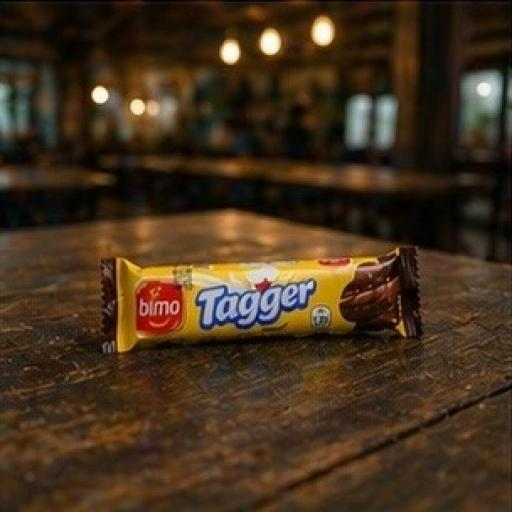tagger: (52, 182, 452, 452)
